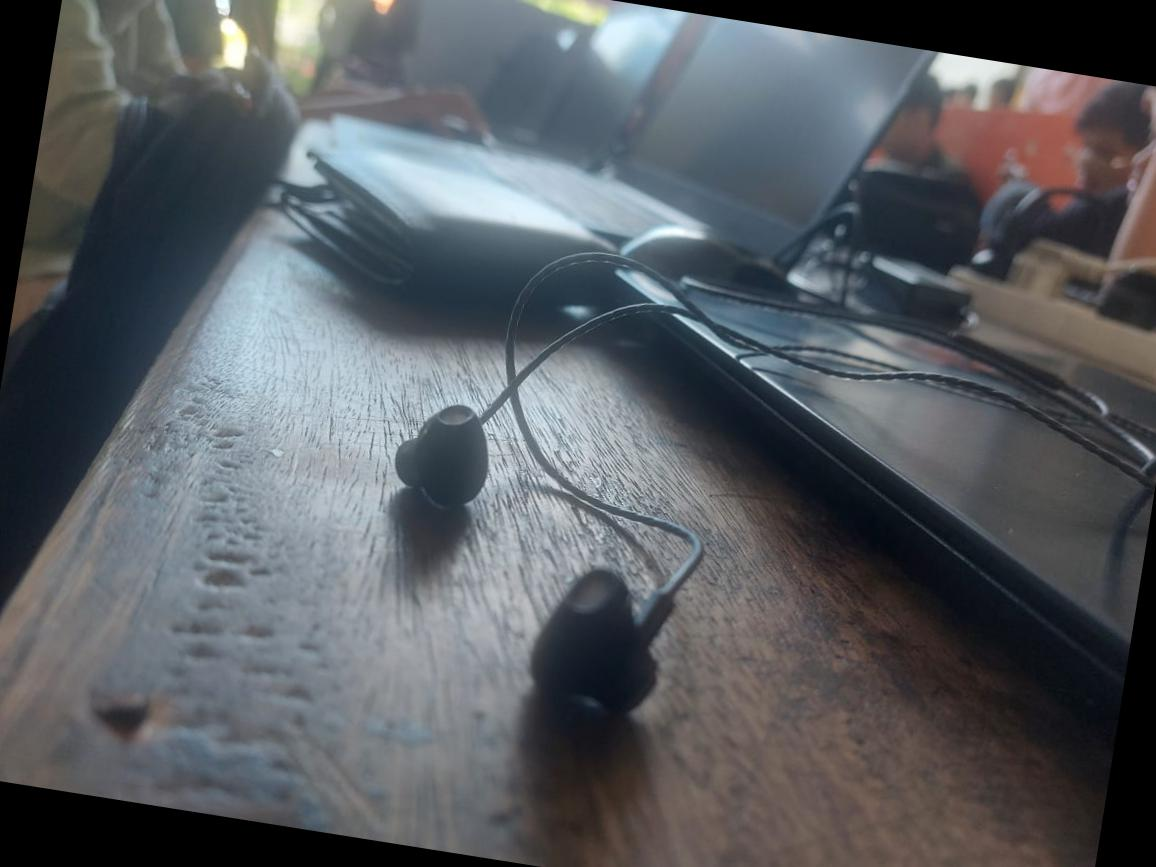Earphone: (510, 548, 697, 736), (371, 384, 507, 530)
